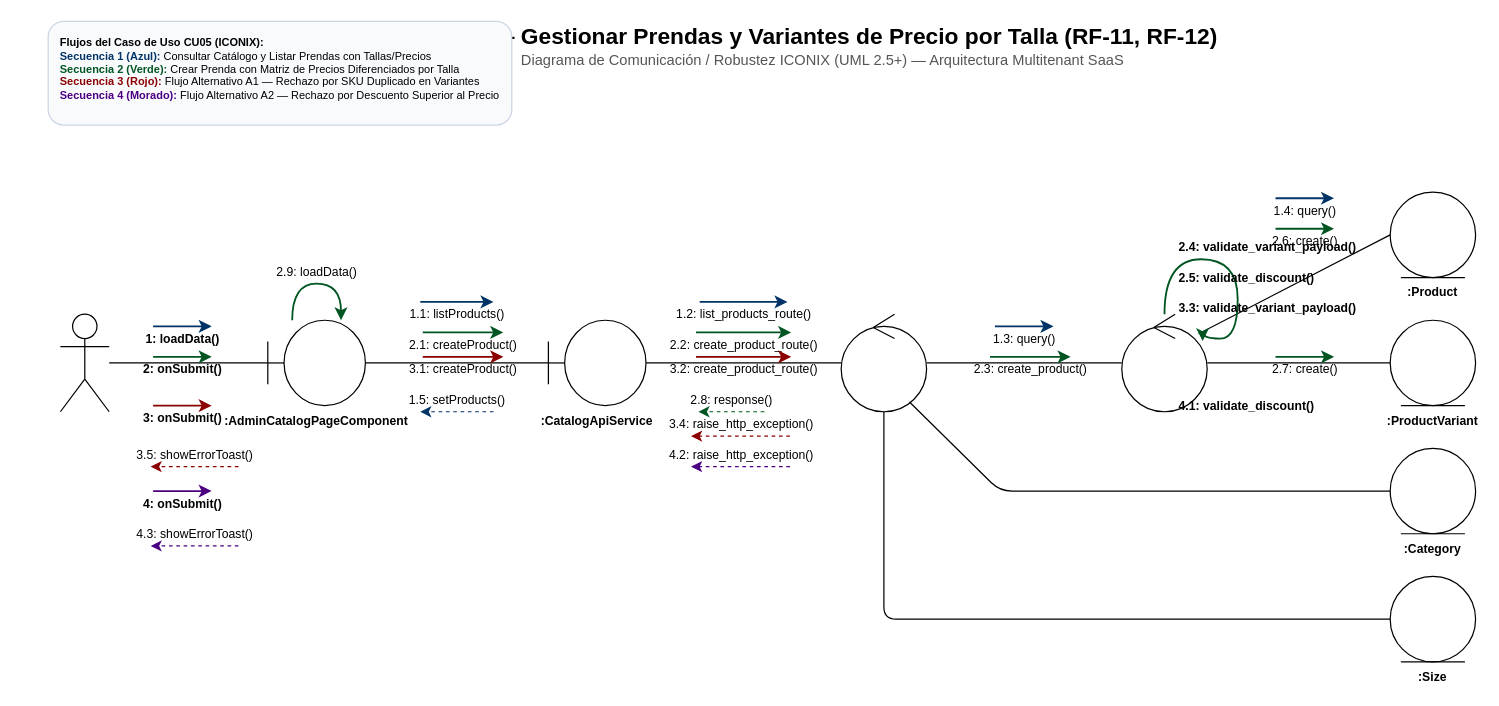
Some shapes in this 1499 by 706 pixel diagram are drawn without their labels. The box of each missing label's shape, as (x1, y1, x2, y2) in pixels:
:AdministradorTenant: (59, 313, 109, 412)
:CatalogRoutes: (840, 313, 927, 412)
:CatalogService: (1121, 313, 1207, 412)
